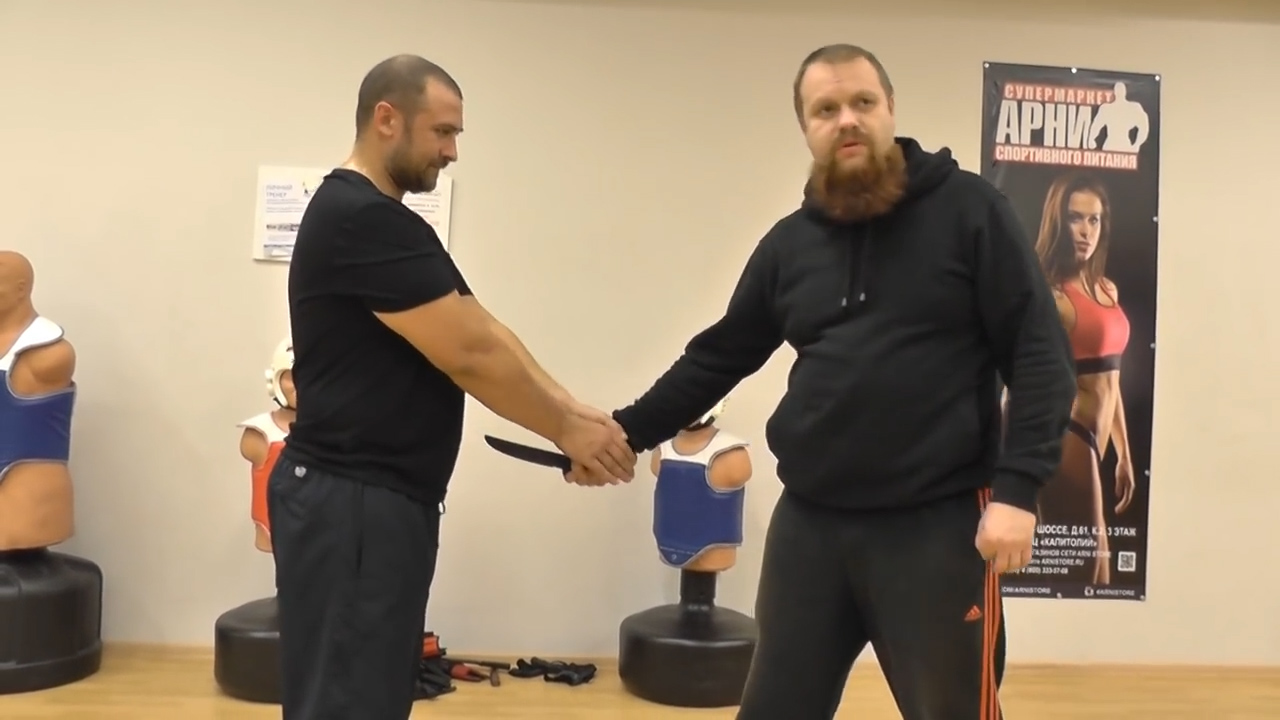knife: (480, 429, 641, 489)
